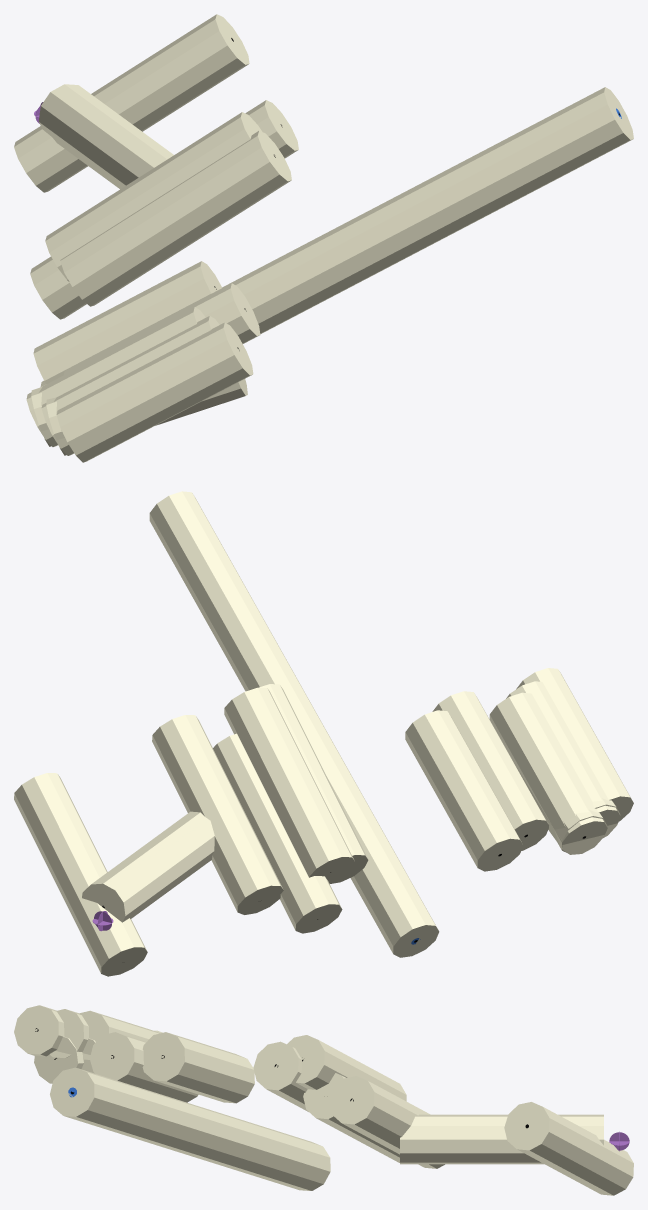
The model's file is tile_119.glb.
3 renders of one model, top to bottom at view 1: azimuth 30°, elevation 25°; view 2: azimuth 150°, elevation 25°; view 3: azimuth 270°, elevation 25°, orthographic. The views are drawn at different scales.
Bounding box in the file's own units: 2.69 × 1.56 × 3.07.
